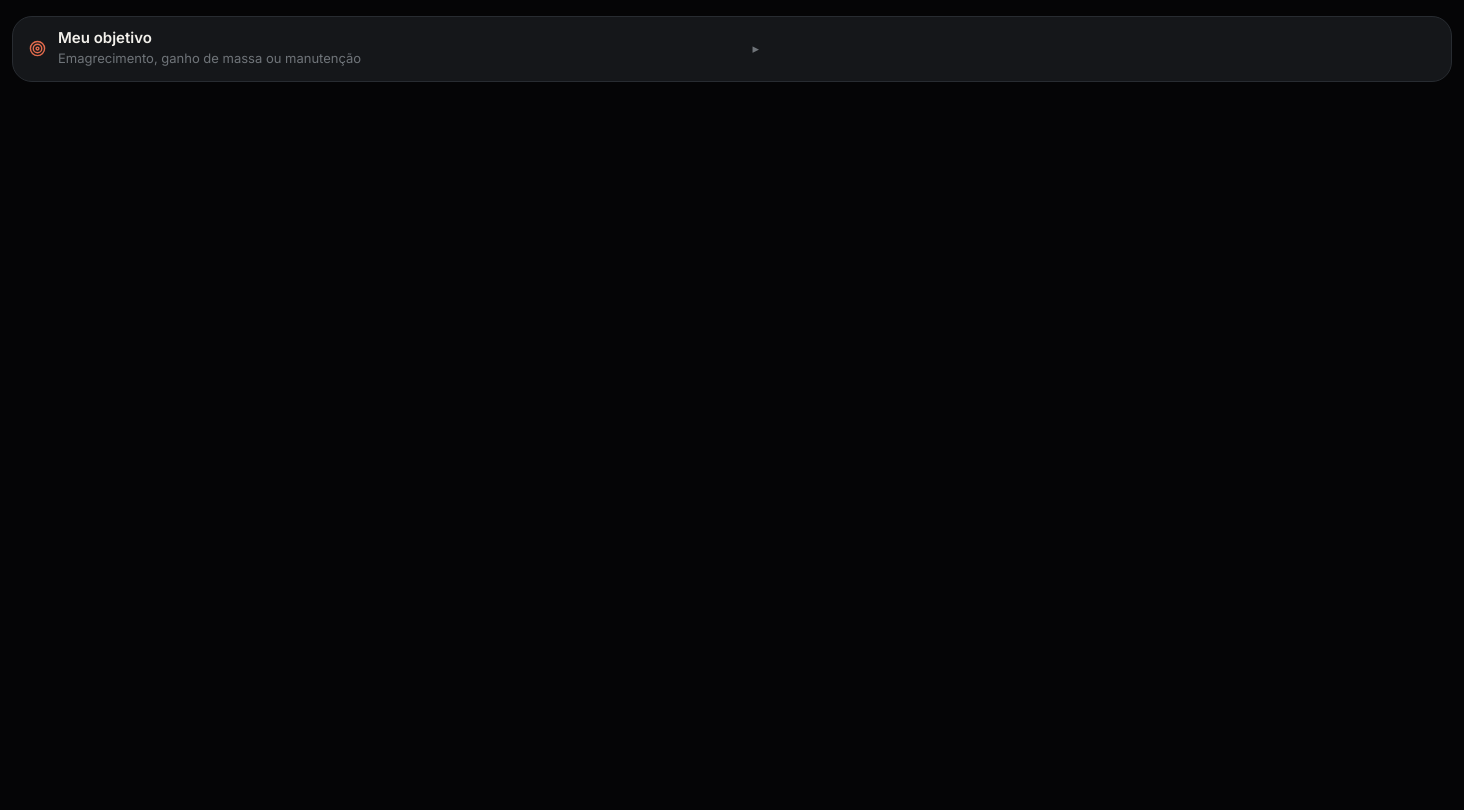
mostra a meta nova e avisa que o cardapio nao mudou
Click the button with test id "abrir-objetivo". click: (105, 38)
box: x1=13 y1=17 x2=1451 y2=80
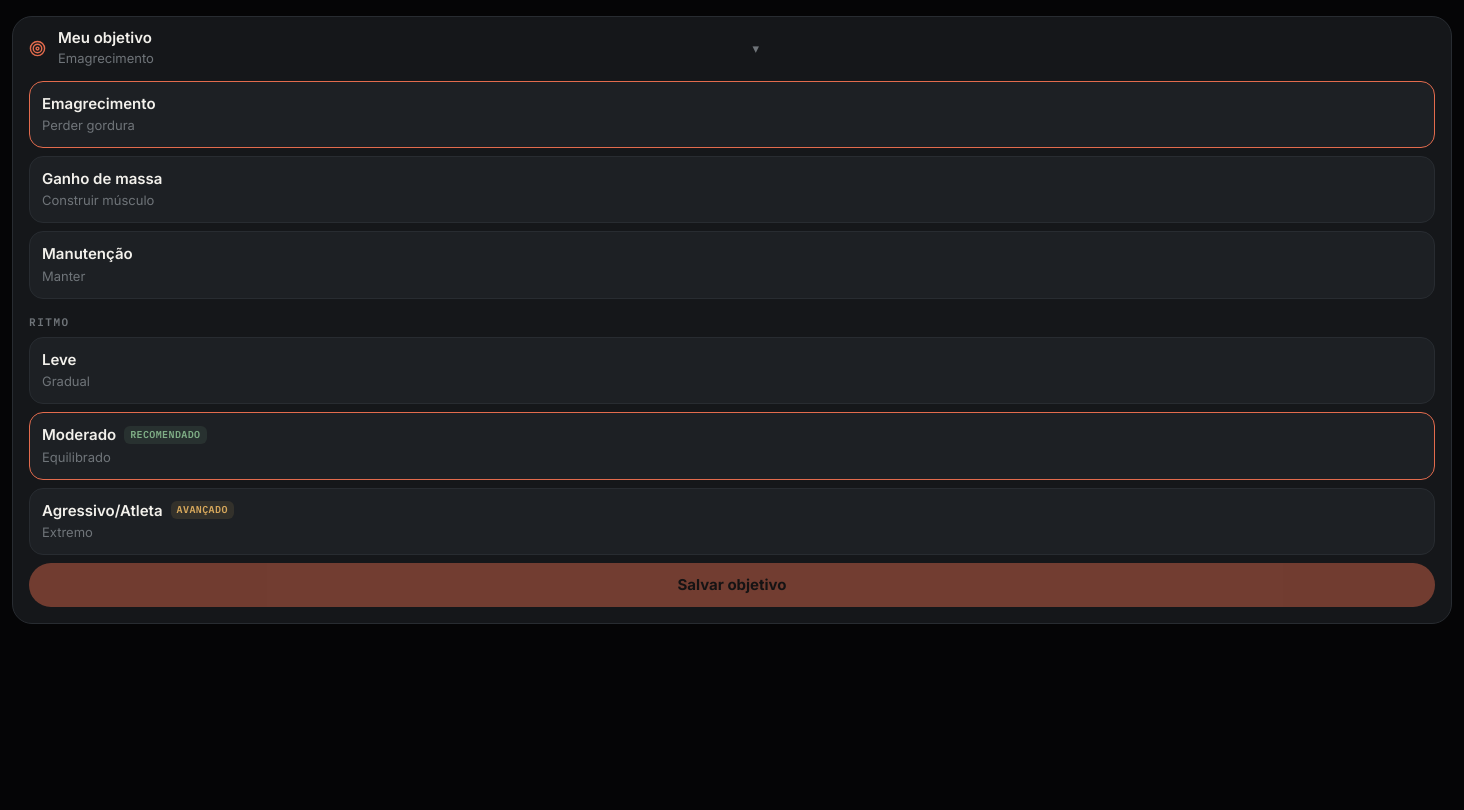
Click the button with test id "objetivo-muscle_gain". click: (102, 178)
box: x1=29 y1=156 x2=1435 y2=223
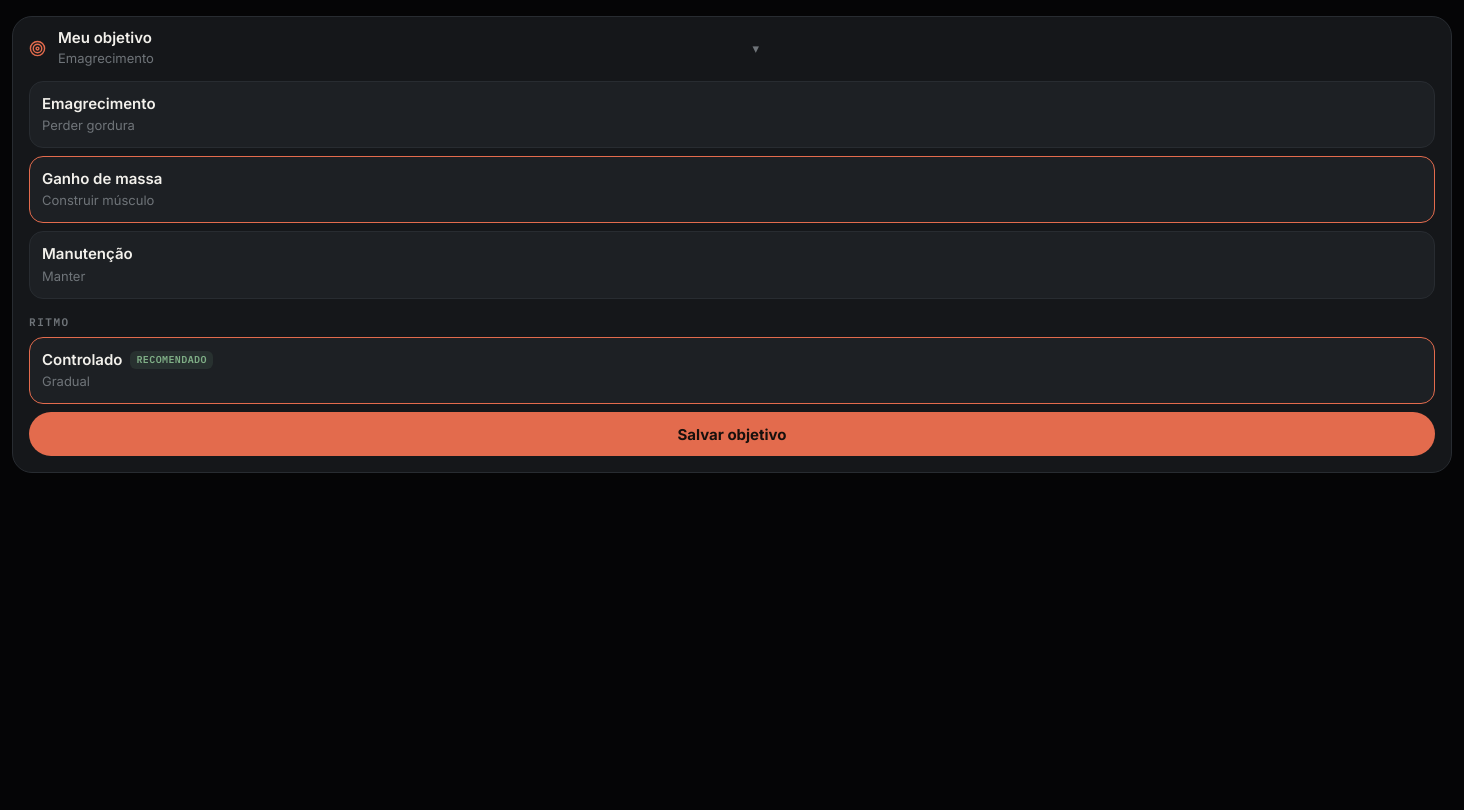
Click the button with test id "salvar-objetivo". click: (732, 434)
box: x1=29 y1=412 x2=1435 y2=456
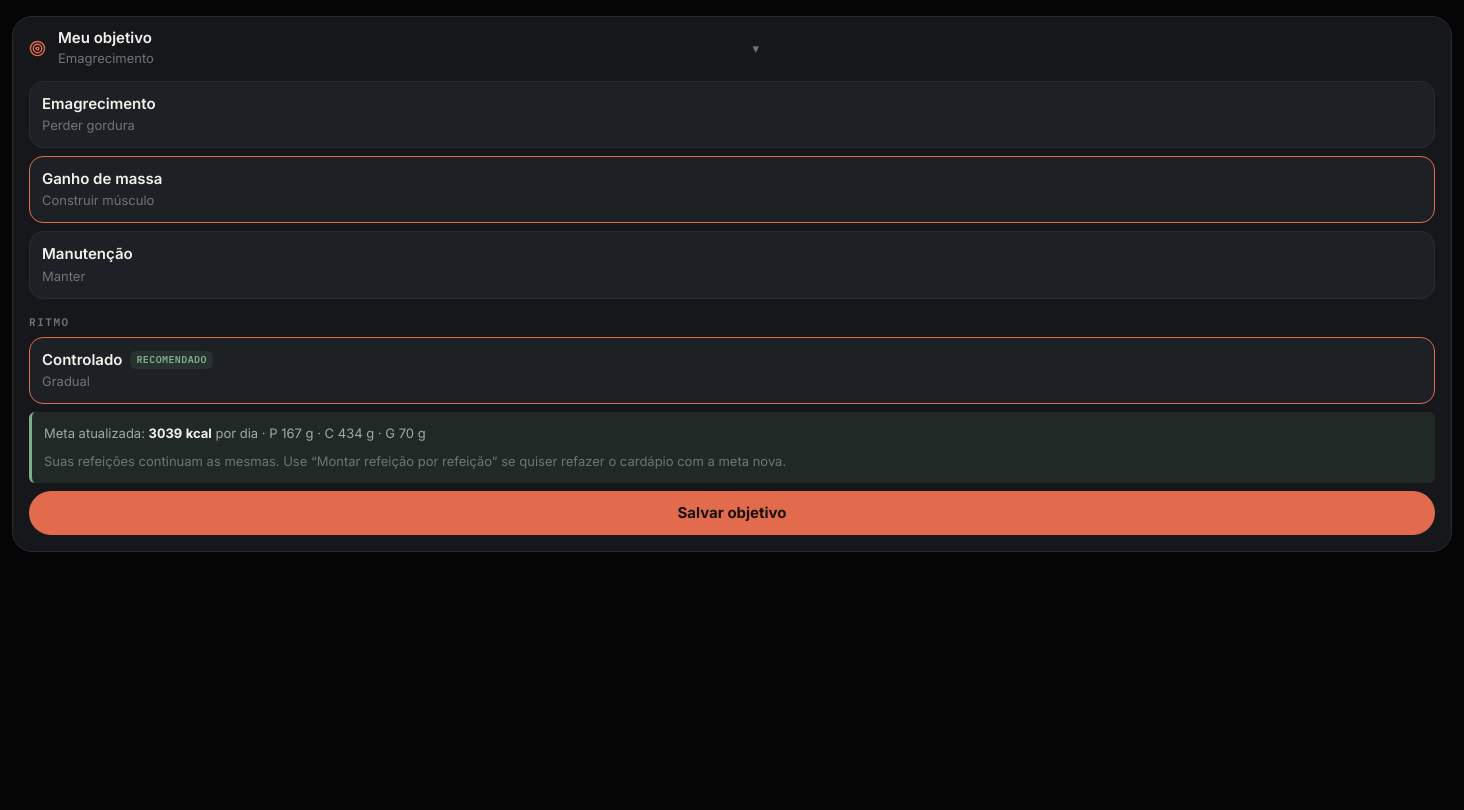
Result: the message with test id "objetivo-resultado" shows "3039 kcal" at x1=29 y1=412 x2=1435 y2=482
Result: the message with test id "objetivo-resultado" shows "continuam as mesmas" at x1=44 y1=453 x2=786 y2=469
